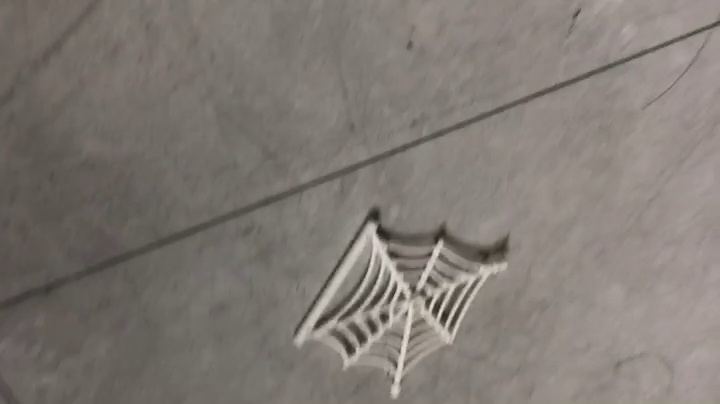web: (291, 206, 512, 399)
